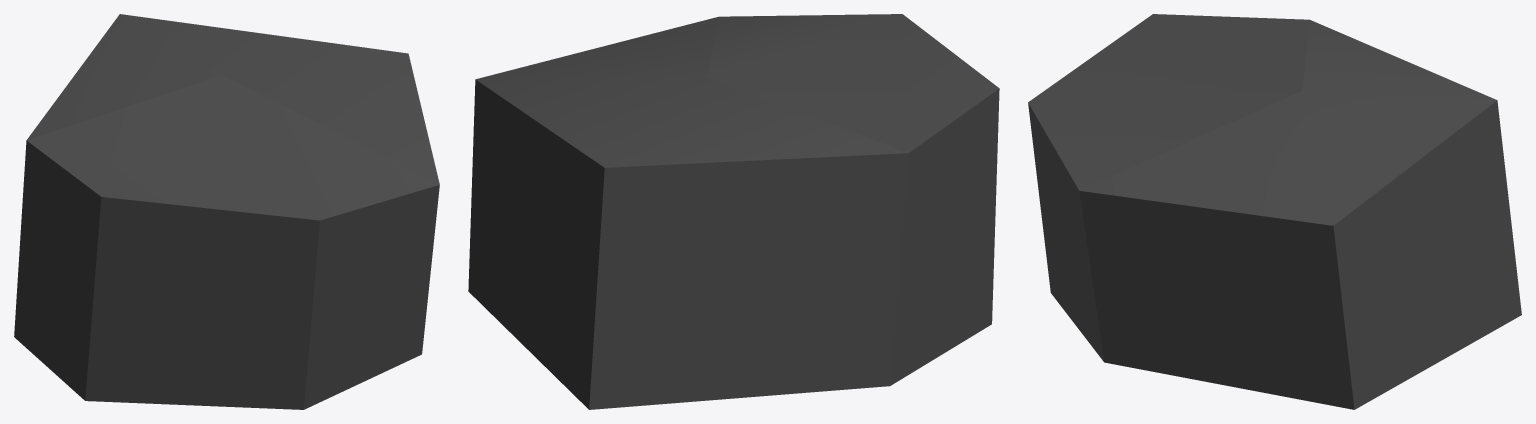
File: SM_Env_Rubble_Stone_02.fbx
The picture shows the model from 3 angles, left to right: view 1: azimuth 30°, elevation 25°; view 2: azimuth 150°, elevation 25°; view 3: azimuth 270°, elevation 25°; orthographic projection. The views are drawn at different scales.
Visible parts, largest first — view 1: SM_Env_Rubble_Stone_02; view 2: SM_Env_Rubble_Stone_02; view 3: SM_Env_Rubble_Stone_02.
Part boxes in pixels (box(x1,y1,x2,y2)): SM_Env_Rubble_Stone_02: box(14, 14, 439, 409); SM_Env_Rubble_Stone_02: box(468, 14, 999, 409); SM_Env_Rubble_Stone_02: box(1028, 14, 1521, 409).
Size of the model in its own units: 0.245 by 0.1494 by 0.2649.
